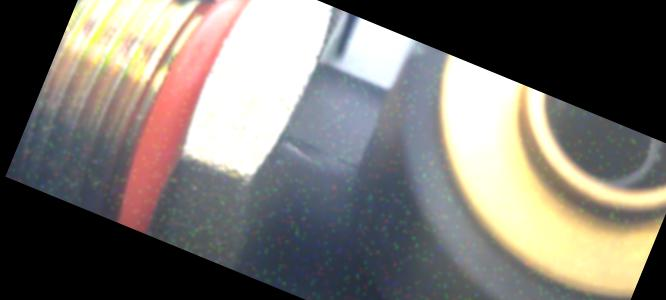joint line: (280, 127, 362, 169)
white mark: (277, 141, 324, 171)
